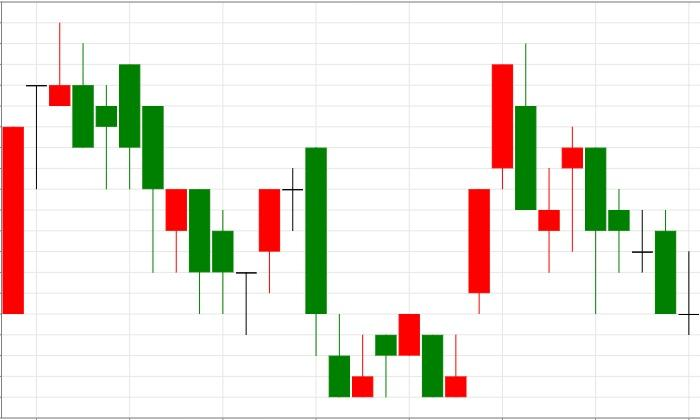morning_star_rise: (96, 64, 280, 336)
